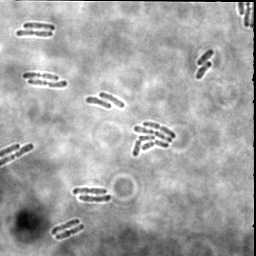Dividing: (1, 143, 35, 166), (54, 223, 85, 241), (51, 217, 80, 236), (26, 77, 68, 89), (76, 193, 113, 204), (22, 71, 60, 81), (71, 186, 108, 195)
Microcolony: (131, 120, 176, 158)
Rod: (99, 91, 125, 109), (85, 96, 112, 110), (194, 61, 212, 80), (22, 21, 55, 31), (195, 48, 213, 66), (1, 142, 20, 156)
